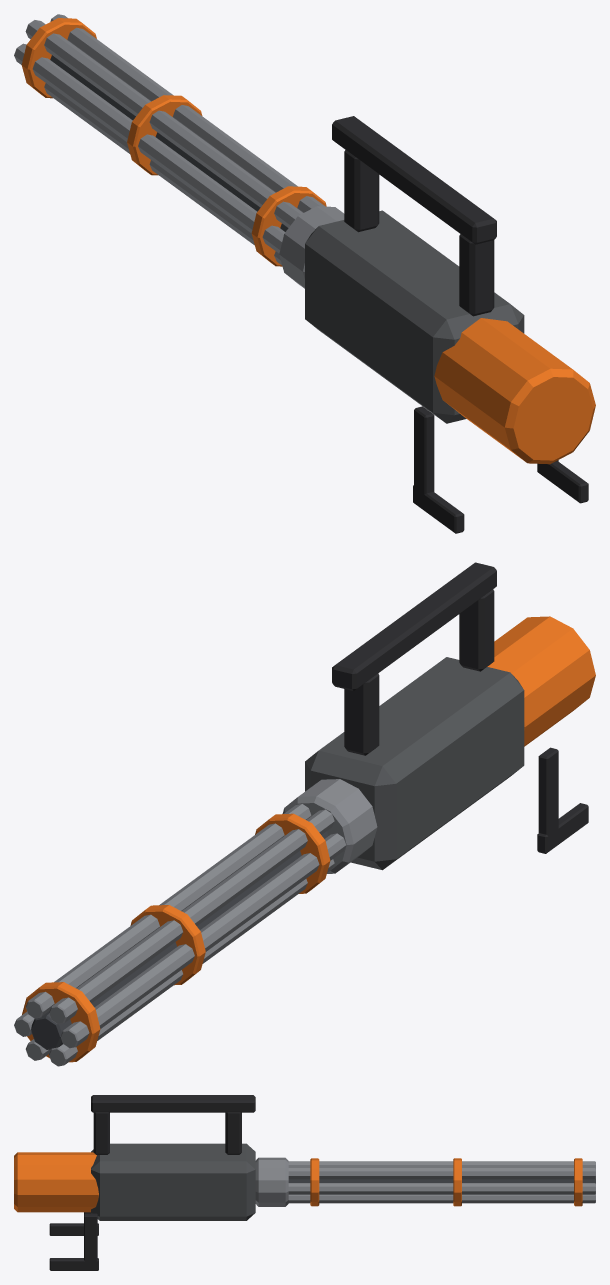
File: minigun.glb
3 renders of one model, top to bottom at view 1: azimuth 30°, elevation 25°; view 2: azimuth 150°, elevation 25°; view 3: azimuth 270°, elevation 25°, orthographic. The views are drawn at different scales.
Parts seen in each view (by area): view 1: minigun; view 2: minigun; view 3: minigun.
Part boxes in pixels (x1=…): minigun: x1=14, y1=14, x2=595, y2=533; minigun: x1=14, y1=562, x2=595, y2=1066; minigun: x1=14, y1=1095, x2=595, y2=1270.
Size of the model in its own units: 0.1528 by 0.2934 by 1.
